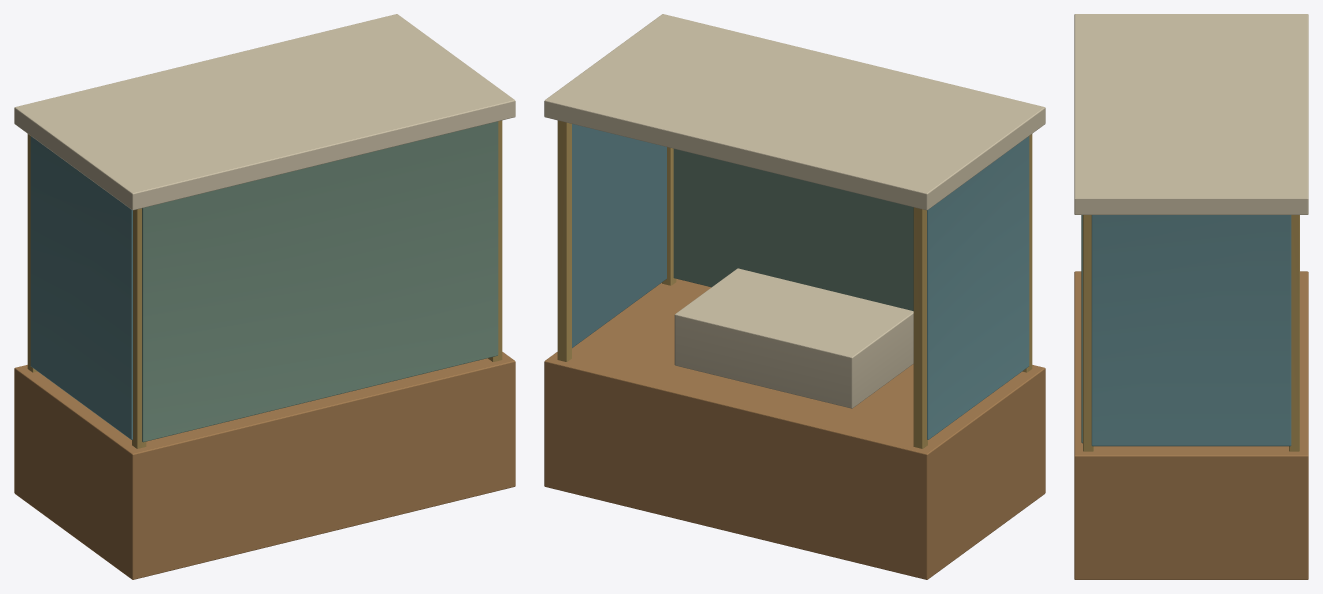
The model's file is museum_case.glb.
3 renders of one model, left to right at view 1: azimuth 30°, elevation 25°; view 2: azimuth 150°, elevation 25°; view 3: azimuth 270°, elevation 25°, orthographic.
Size of the model in its own units: 1.4 by 1.35 by 0.75.
